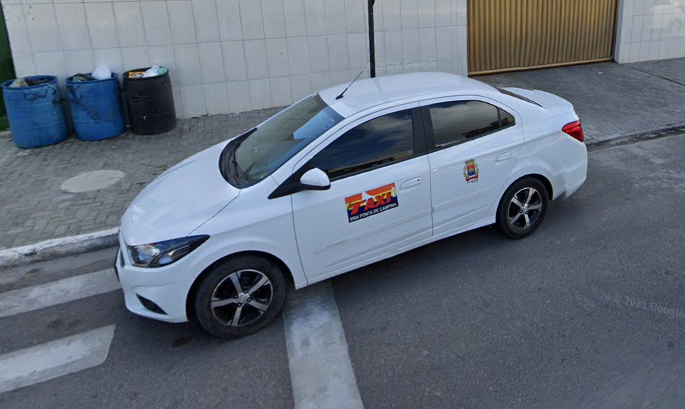car: (111, 68, 589, 346)
